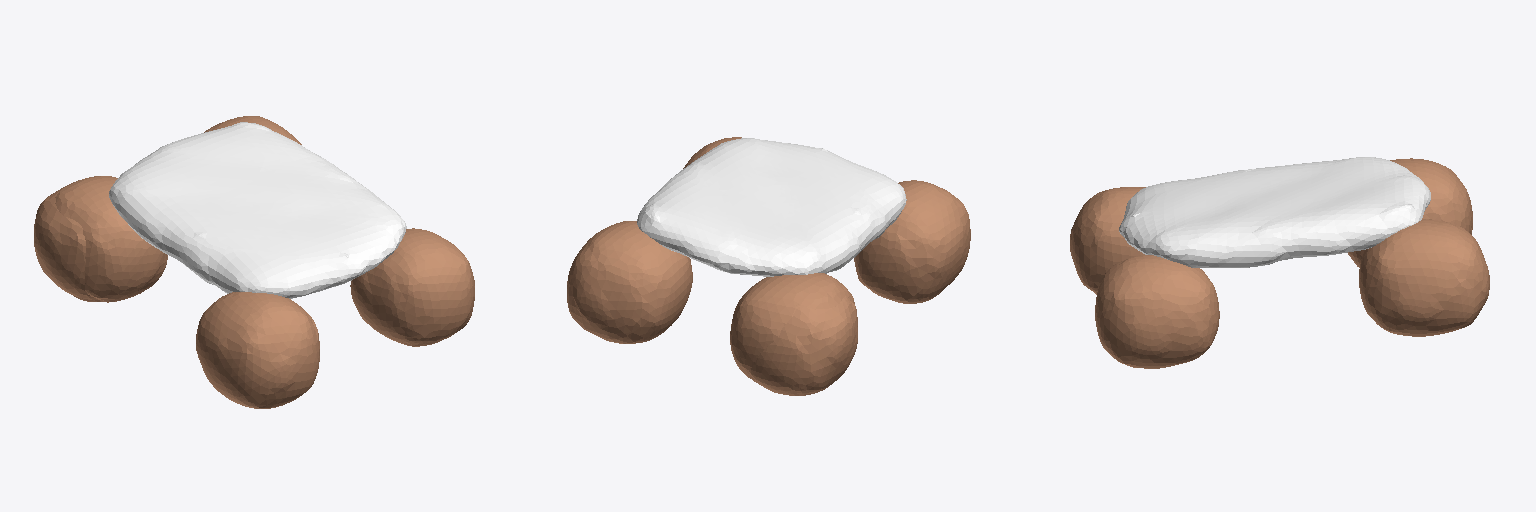
Rendered from chaji5.obj.
The picture shows the model from 3 angles: view 1: azimuth 30°, elevation 25°; view 2: azimuth 150°, elevation 25°; view 3: azimuth 270°, elevation 25°; orthographic projection.
Size of the model in its own units: 0.5008 by 0.2466 by 0.6227.